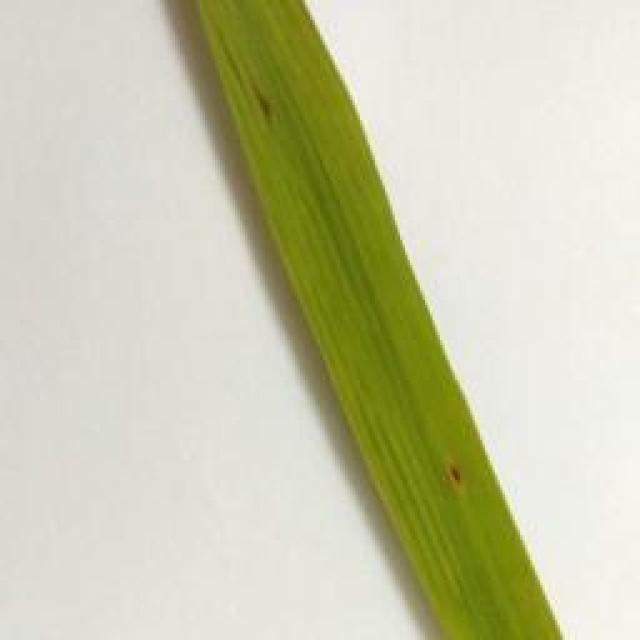Brown_Spot: (440, 452, 476, 501)
